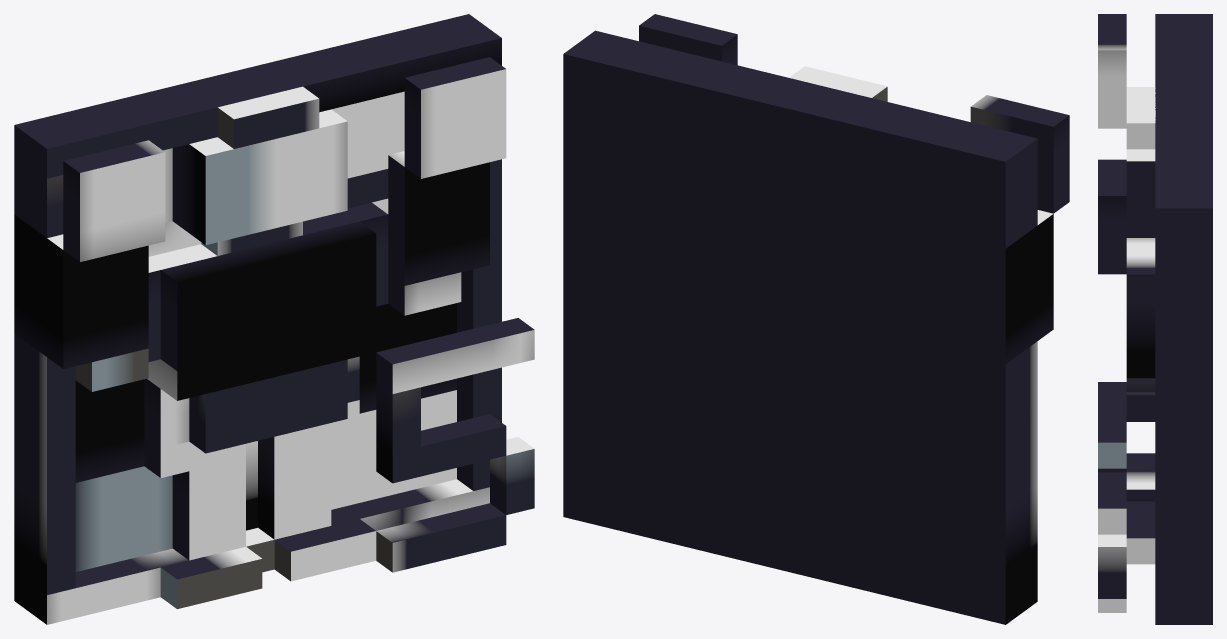
The model's file is hero5.fbx.
3 renders of one model, left to right at view 1: azimuth 30°, elevation 25°; view 2: azimuth 150°, elevation 25°; view 3: azimuth 270°, elevation 25°, orthographic. The views are drawn at different scales.
Visible parts, largest first — view 1: hero5; view 2: hero5; view 3: hero5.
Boxes of the visible parts, left/top/right/bottom form: hero5: left=14, top=14, right=534, bottom=624; hero5: left=563, top=14, right=1069, bottom=624; hero5: left=1098, top=14, right=1212, bottom=624.
Size of the model in its own units: 16 by 16 by 4.
